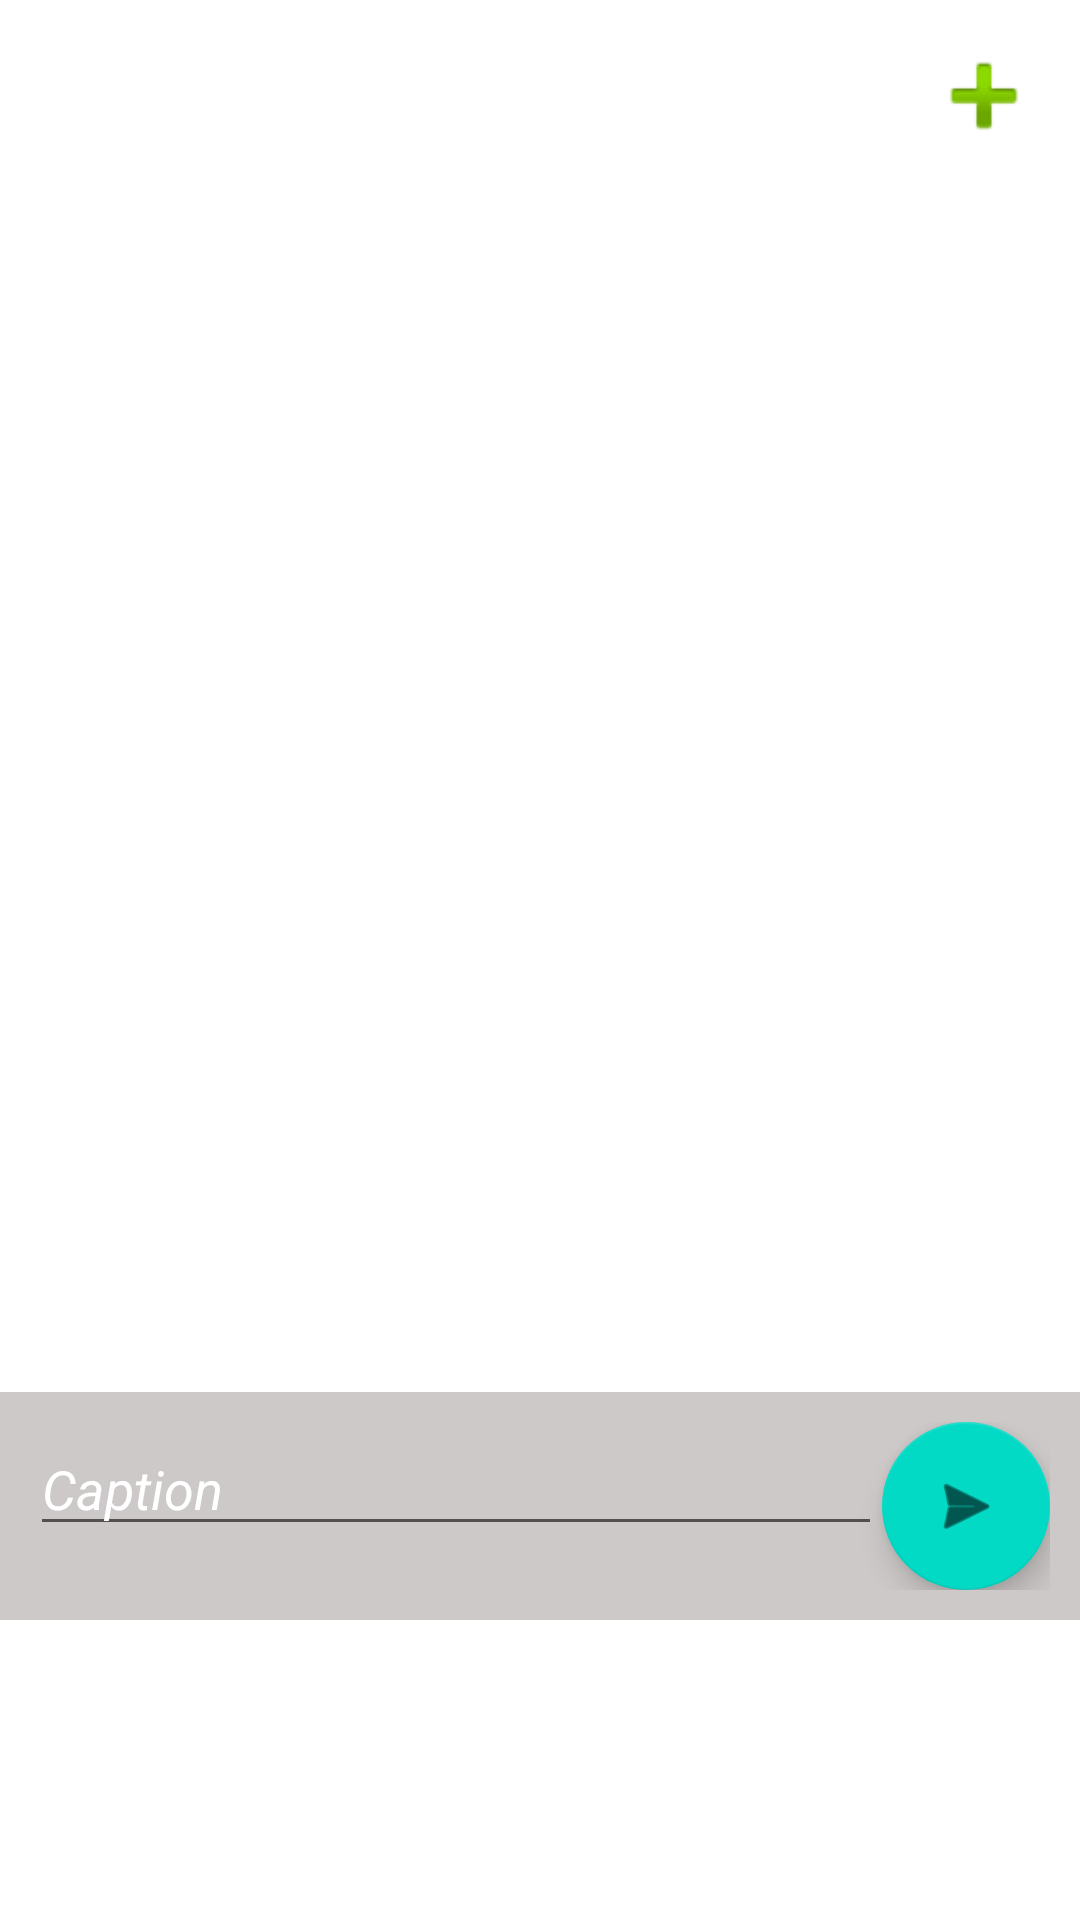

Locate icon controls on the screen. Image size 1080*1920, boxes as [x1,y1,x2,y2].
add: [950,62,1018,130]
send: [882,1422,1050,1590]
